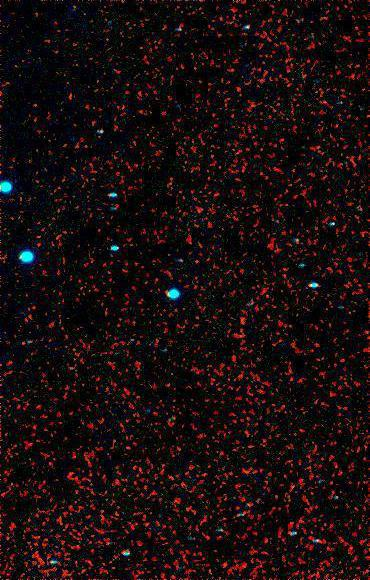star: (181, 245, 211, 275)
